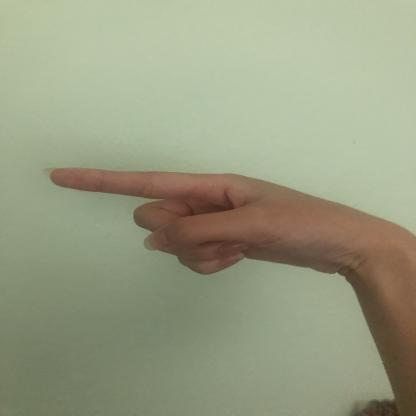finger_point: (38, 162, 226, 209)
